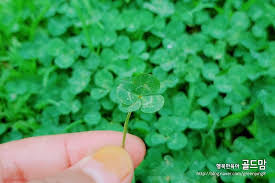4-clover: (111, 73, 165, 113)
